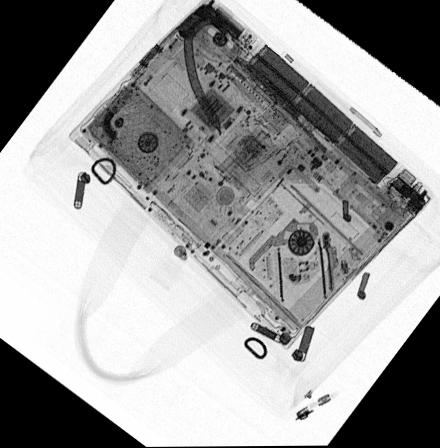Scissors: (235, 53, 336, 157)
